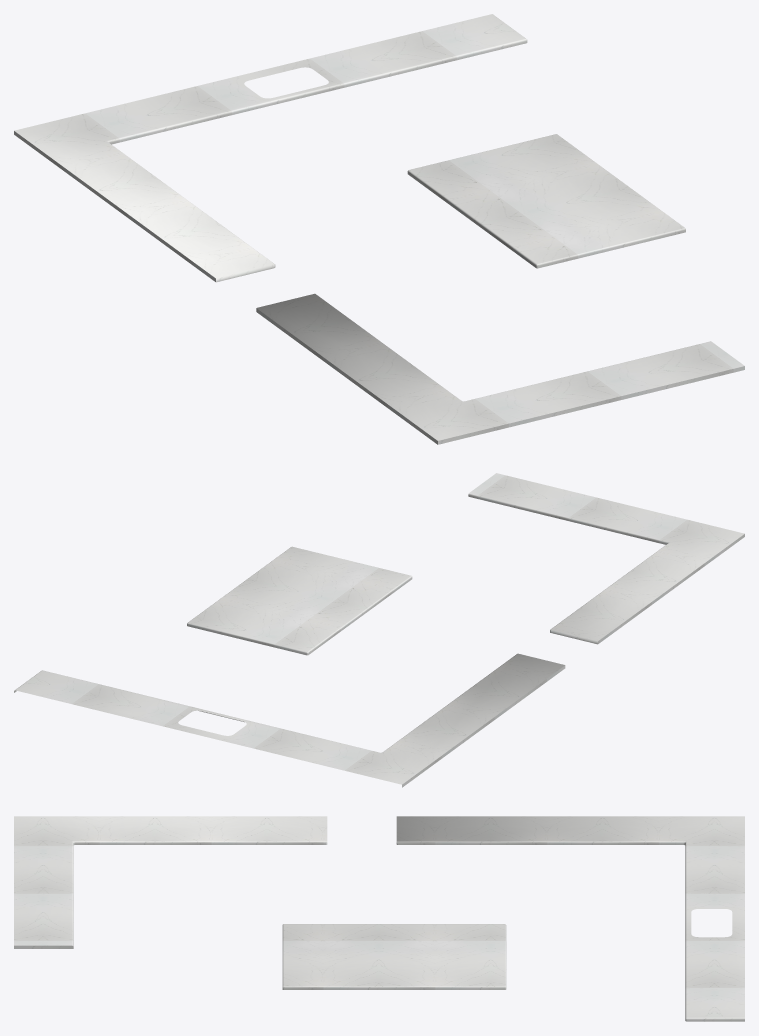
File: 2345_kitchen_Countertops_QuartzCalacattaUltra.gltf
3 renders of one model, top to bottom at view 1: azimuth 30°, elevation 25°; view 2: azimuth 150°, elevation 25°; view 3: azimuth 270°, elevation 25°, orthographic. The views are drawn at different scales.
Visible parts, largest first — view 1: Countertops_Quartz Calacatta Ultra; view 2: Countertops_Quartz Calacatta Ultra; view 3: Countertops_Quartz Calacatta Ultra.
Part boxes in pixels (box(x1,y1,x2,y2)): Countertops_Quartz Calacatta Ultra: box(14, 14, 744, 444); Countertops_Quartz Calacatta Ultra: box(14, 473, 744, 787); Countertops_Quartz Calacatta Ultra: box(14, 816, 744, 1021).
Size of the model in its own units: 6.4 by 0.05 by 9.8.
Materials: 1 (1 with a texture image).
